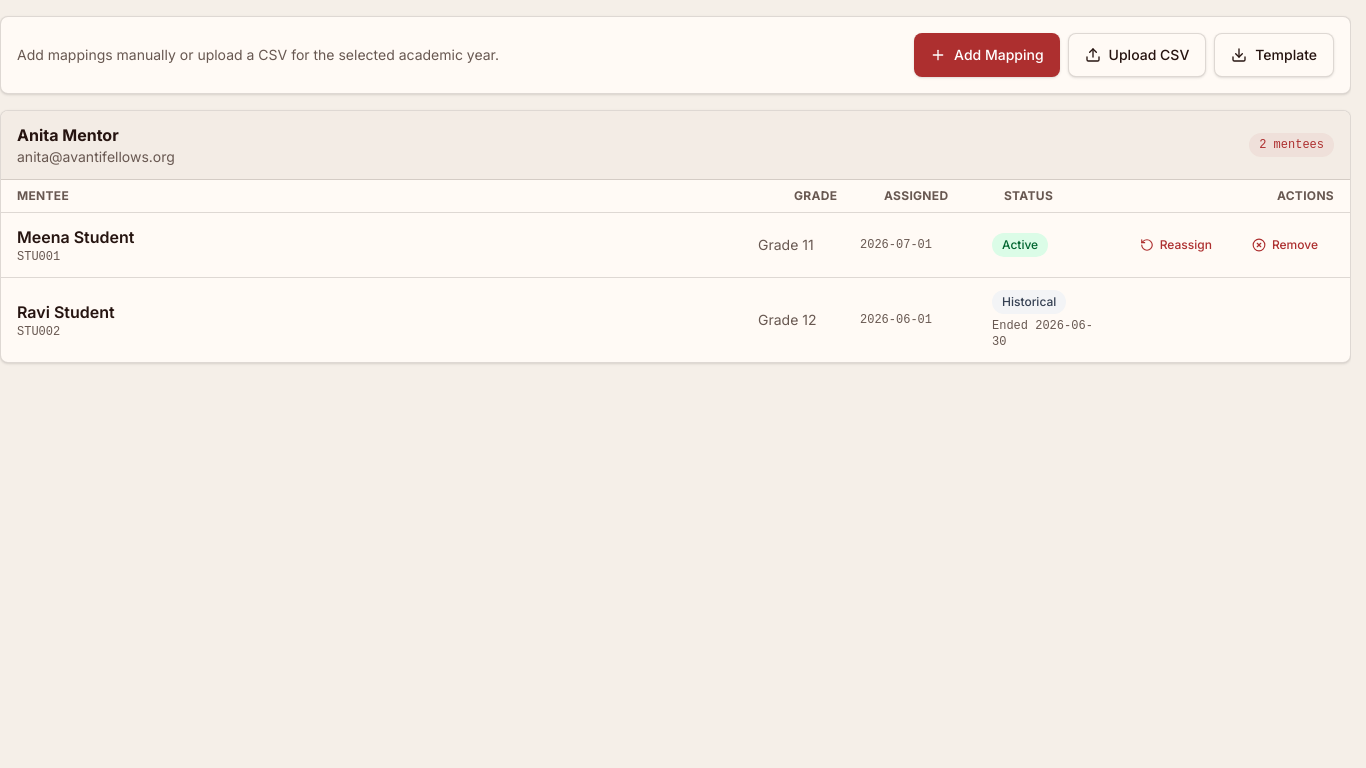
it: AcademicMentorshipManager › adds a Mapping and refreshes the table
The width and height of the screenshot is (1366, 768).
Click the button "Add Mapping": (987, 55) [914,33,1060,77]
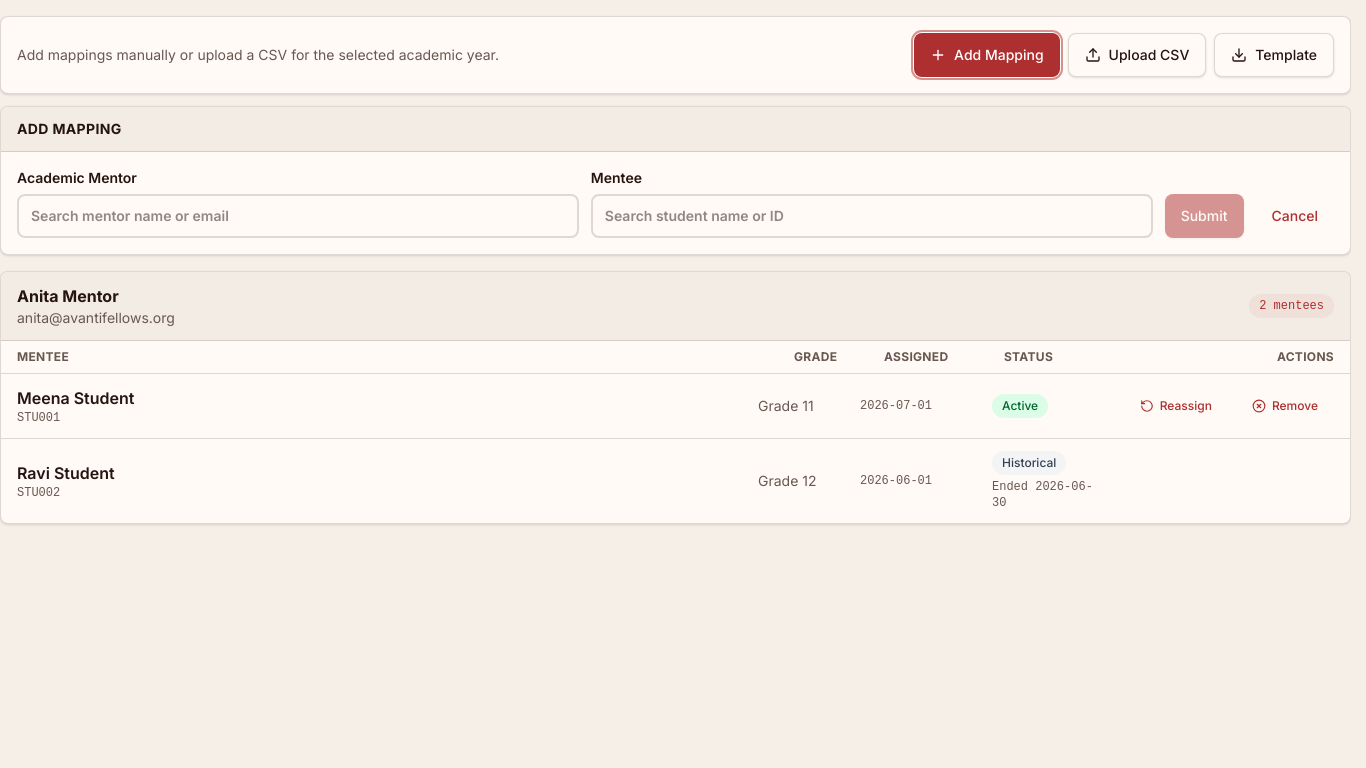
In the field labelled "Academic Mentor": (298, 216) [17,194,579,238], type "Anita"
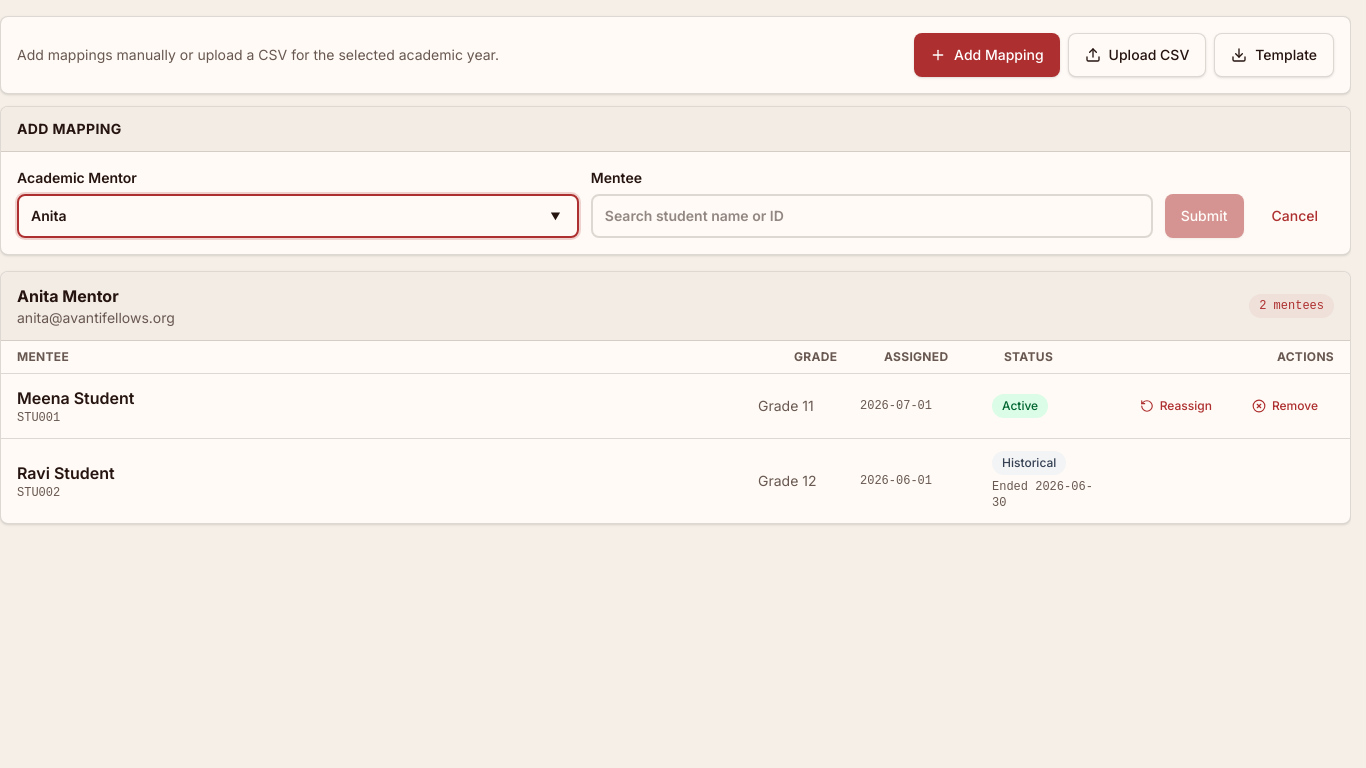
Replace the text in the field labelled "Academic Mentor" with "Anita Mentor (anita@avantifellows.org)": (298, 216) [17,194,579,238]
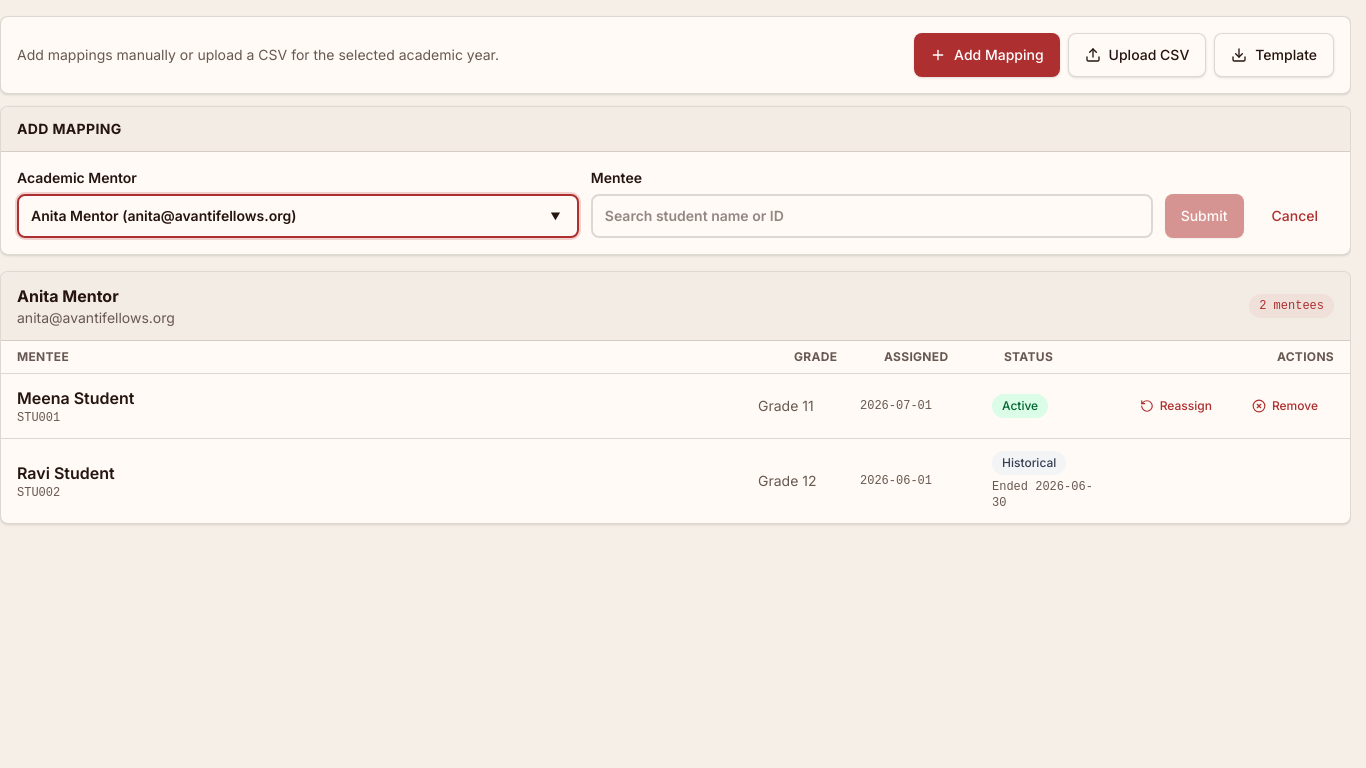
In the field labelled "Mentee": (872, 216) [591,194,1153,238], type "STU"
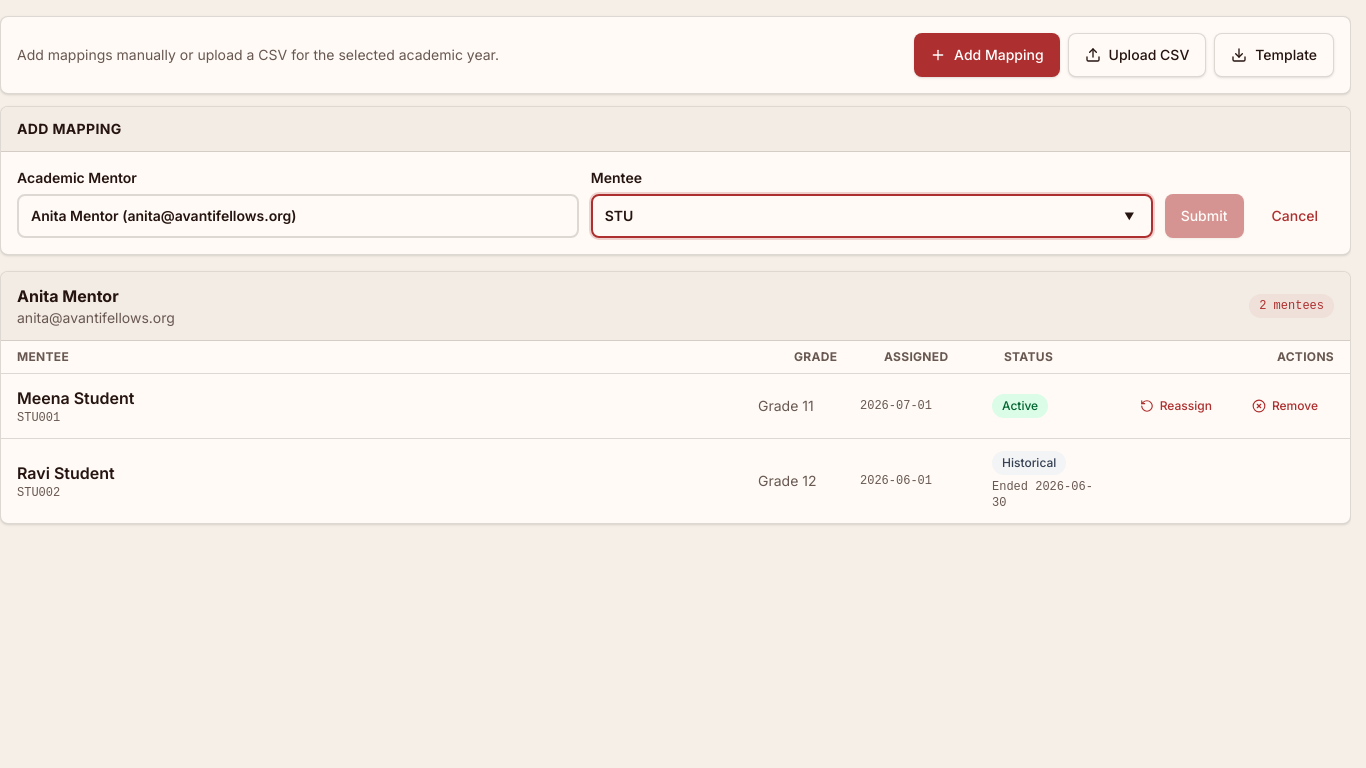
Replace the text in the field labelled "Mentee" with "Fresh Student (STU003)": (872, 216) [591,194,1153,238]
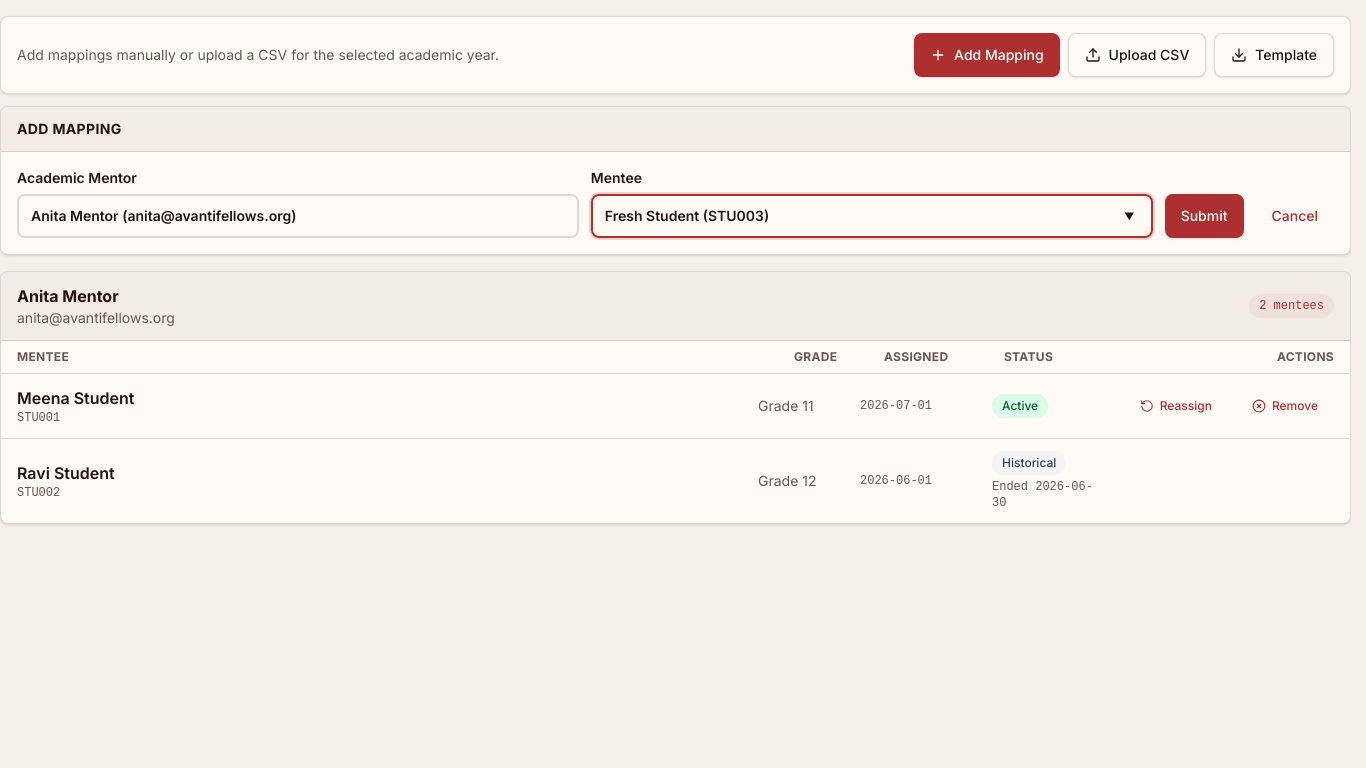
Click the button "Submit": (1204, 216) [1165,194,1244,238]
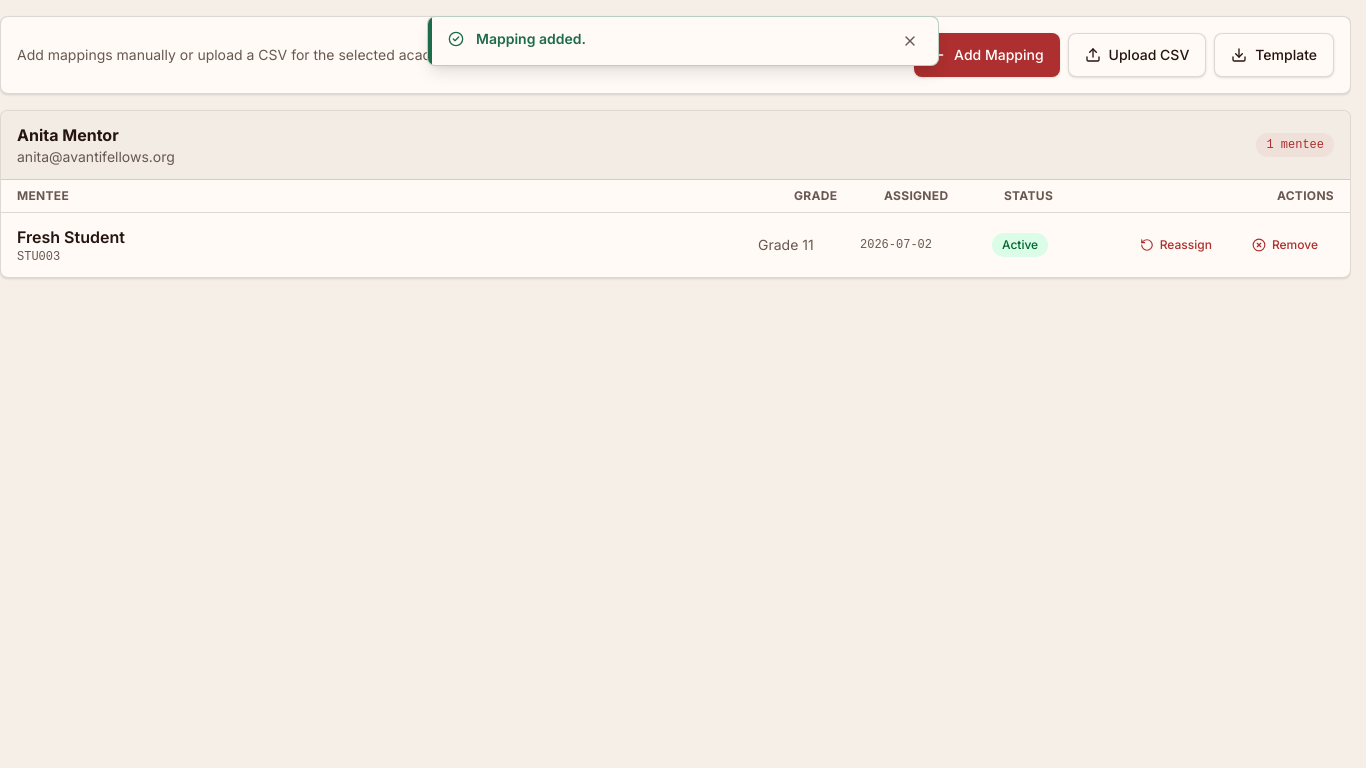
Result: the text "Mapping added." is shown at [476,30,586,47]
Result: the text "Fresh Student" is shown at [17,227,125,247]
